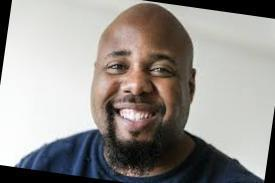Sober: (101, 22, 185, 141)
